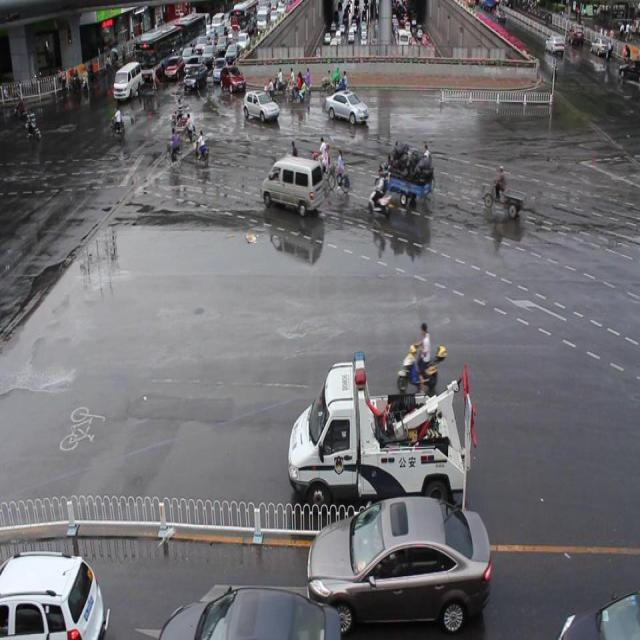bus: (287, 352, 473, 518)
car: (305, 498, 490, 629), (164, 582, 344, 640), (0, 548, 106, 640), (557, 590, 640, 640), (324, 91, 369, 126), (242, 91, 278, 124)
truck: (260, 155, 324, 215)
